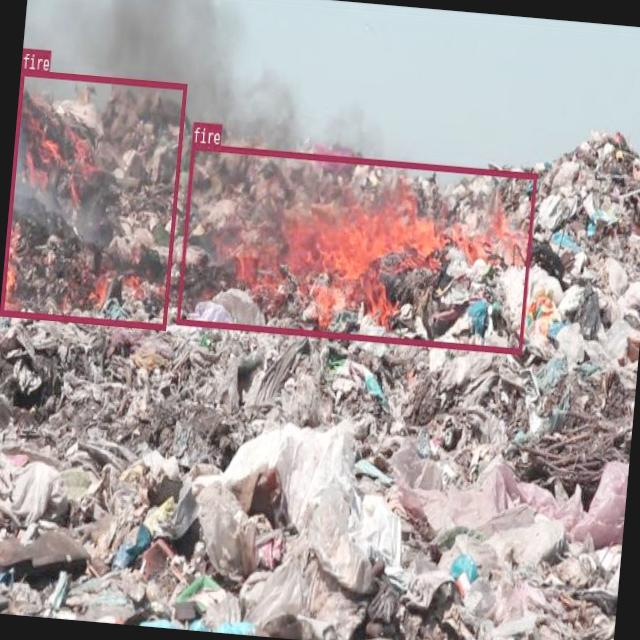fire: (174, 142, 536, 354), (0, 68, 185, 327)
